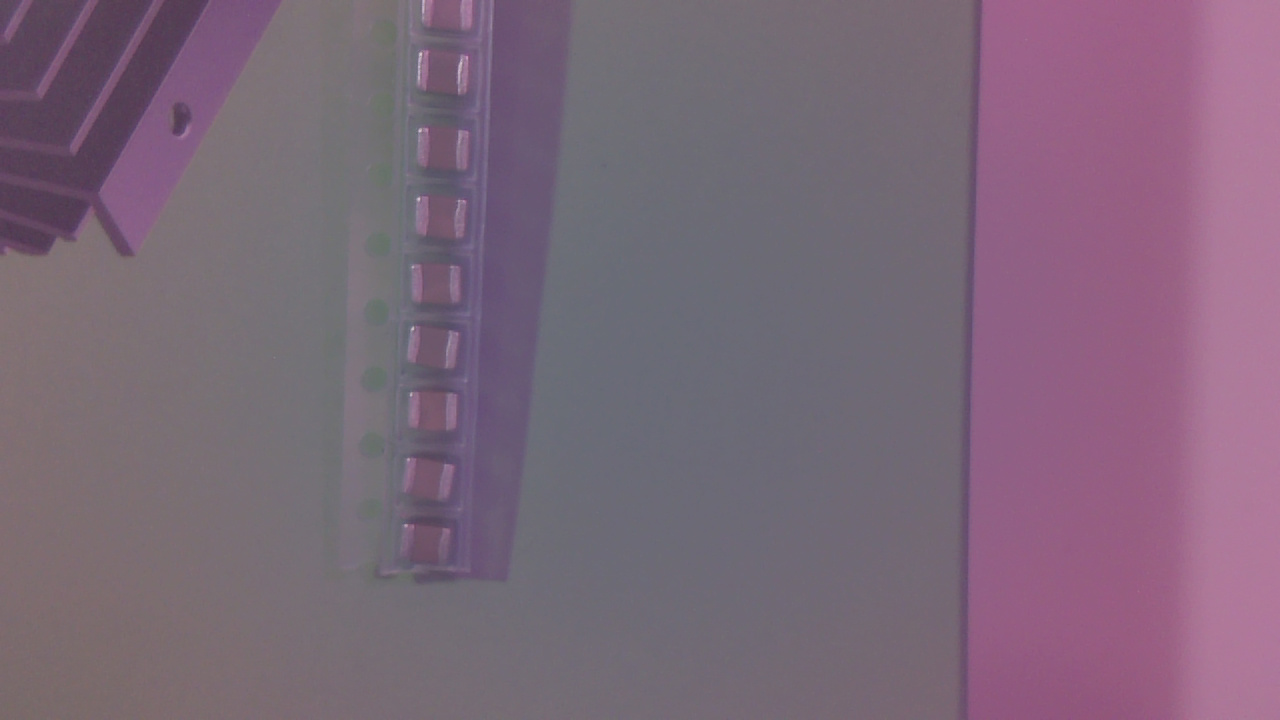Condensator: (406, 460, 466, 510), (410, 326, 466, 378), (422, 53, 480, 102), (404, 522, 460, 571), (422, 131, 478, 179), (415, 265, 471, 312), (412, 394, 465, 442), (420, 200, 473, 244), (422, 6, 480, 36)
